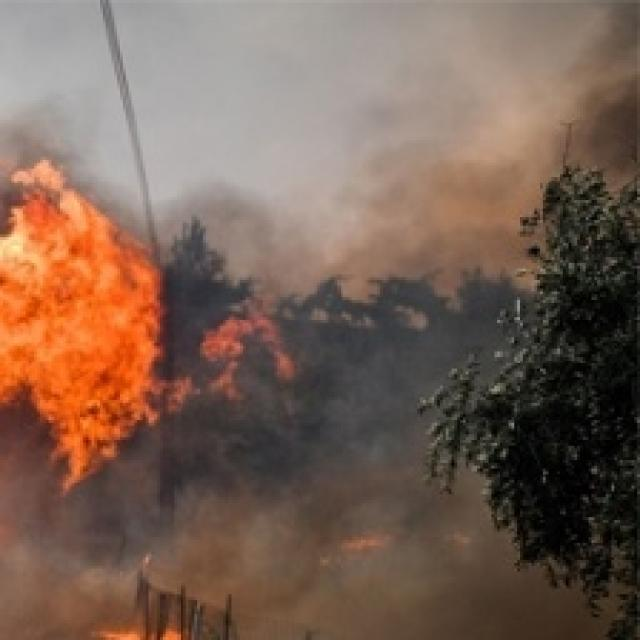Fire: (0, 159, 163, 492)
